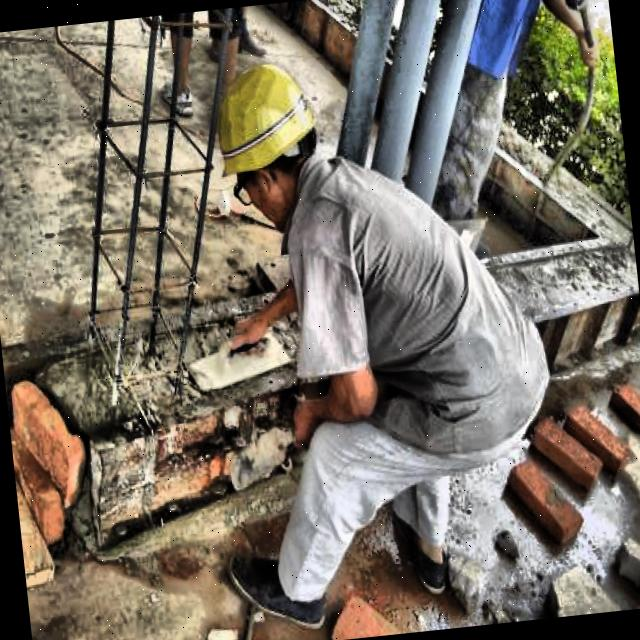helmet: (197, 48, 329, 236)
